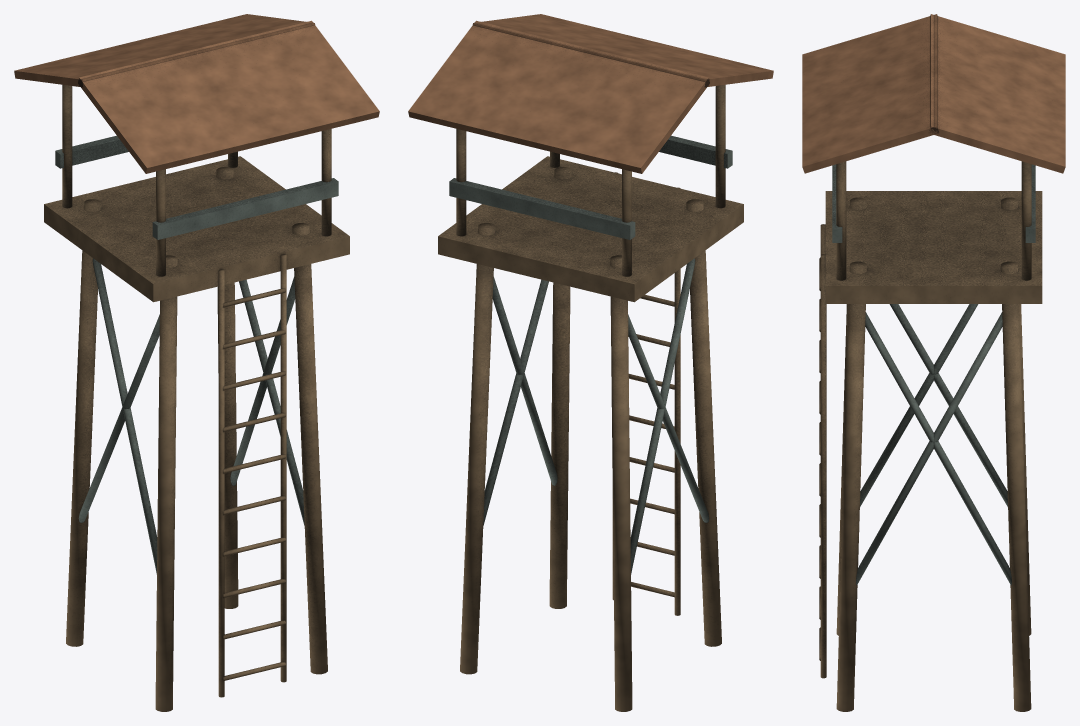
The model's file is OutpostWatchtower.fbx.
3 renders of one model, left to right at view 1: azimuth 30°, elevation 25°; view 2: azimuth 150°, elevation 25°; view 3: azimuth 270°, elevation 25°, orthographic.
Visible parts, largest first — view 1: OutpostWatchtower; view 2: OutpostWatchtower; view 3: OutpostWatchtower.
Part boxes in pixels (<box>): OutpostWatchtower: <box>14,14,379,711</box>; OutpostWatchtower: <box>408,14,773,711</box>; OutpostWatchtower: <box>802,14,1065,711</box>.
Size of the model in its own units: 1.35 by 3.36 by 1.34.
1 material, 1 textured.
